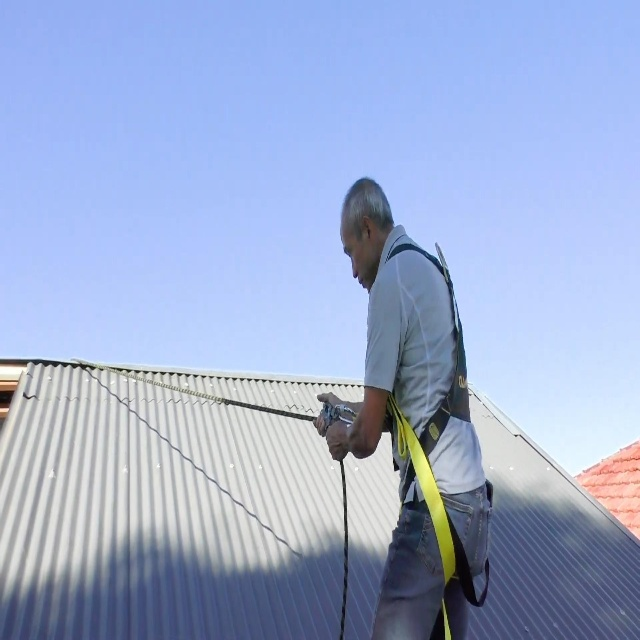Arnes_seguridad: (353, 235, 493, 640)
